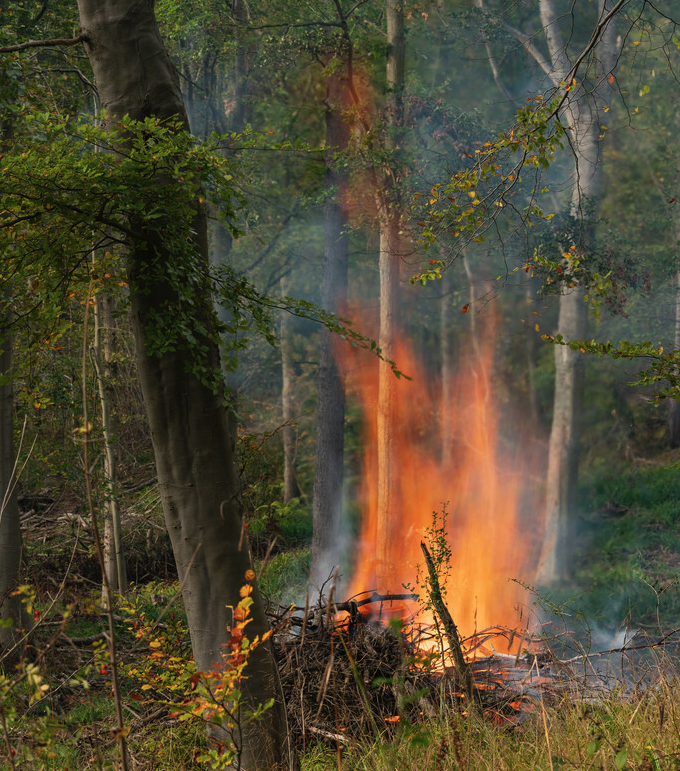fire: (317, 361, 559, 655)
